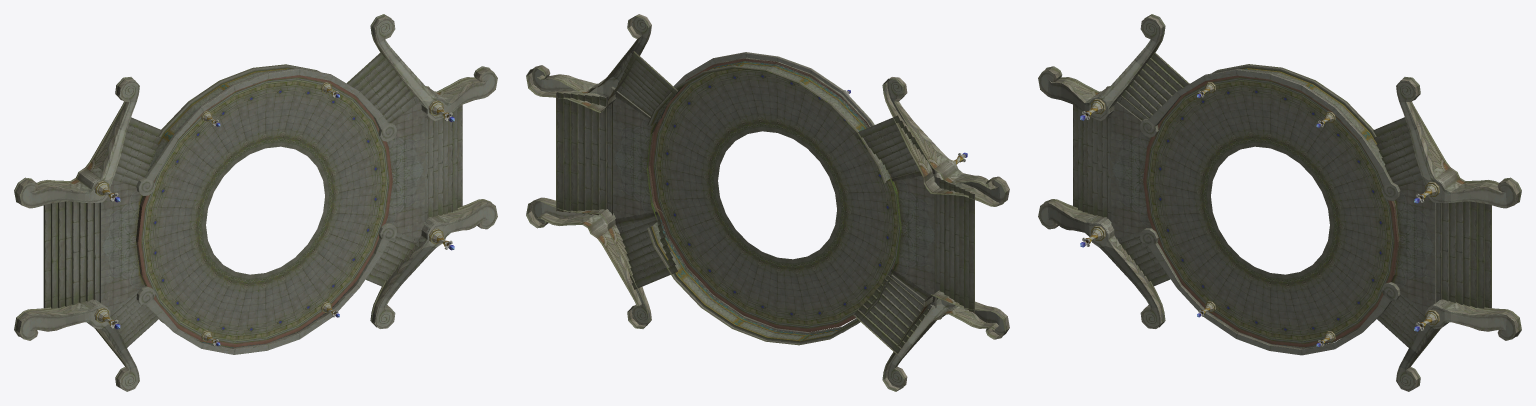
Rendered from huodong_fuben_654_taizi02.obj.
3 renders of one model, left to right at view 1: azimuth 30°, elevation 25°; view 2: azimuth 150°, elevation 25°; view 3: azimuth 330°, elevation 25°, orthographic.
Visible parts, largest first — view 1: huodong_fuben_654_taizi02; view 2: huodong_fuben_654_taizi02; view 3: huodong_fuben_654_taizi02.
Part boxes in pixels (box(x1,y1,x2,y2)): huodong_fuben_654_taizi02: box(14, 14, 497, 391); huodong_fuben_654_taizi02: box(526, 14, 1009, 391); huodong_fuben_654_taizi02: box(1038, 14, 1521, 391).
Size of the model in its own units: 2427 by 1511 by 309.
Materials: 4 (4 with a texture image).
